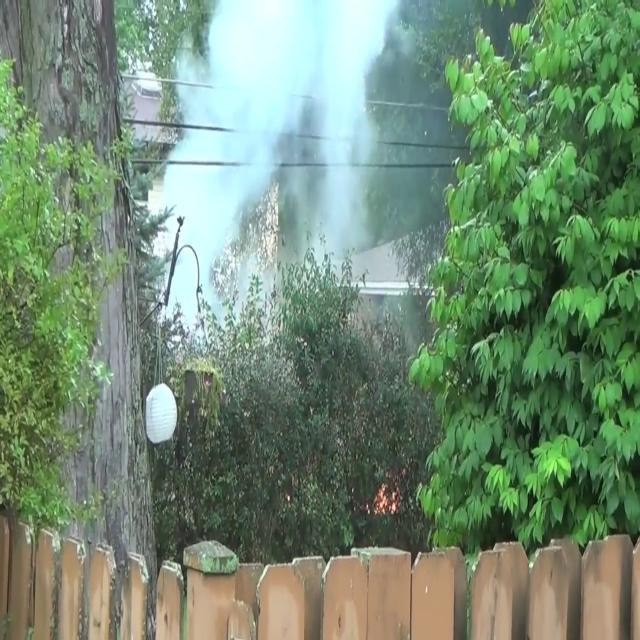Smoke: (150, 0, 420, 316)
